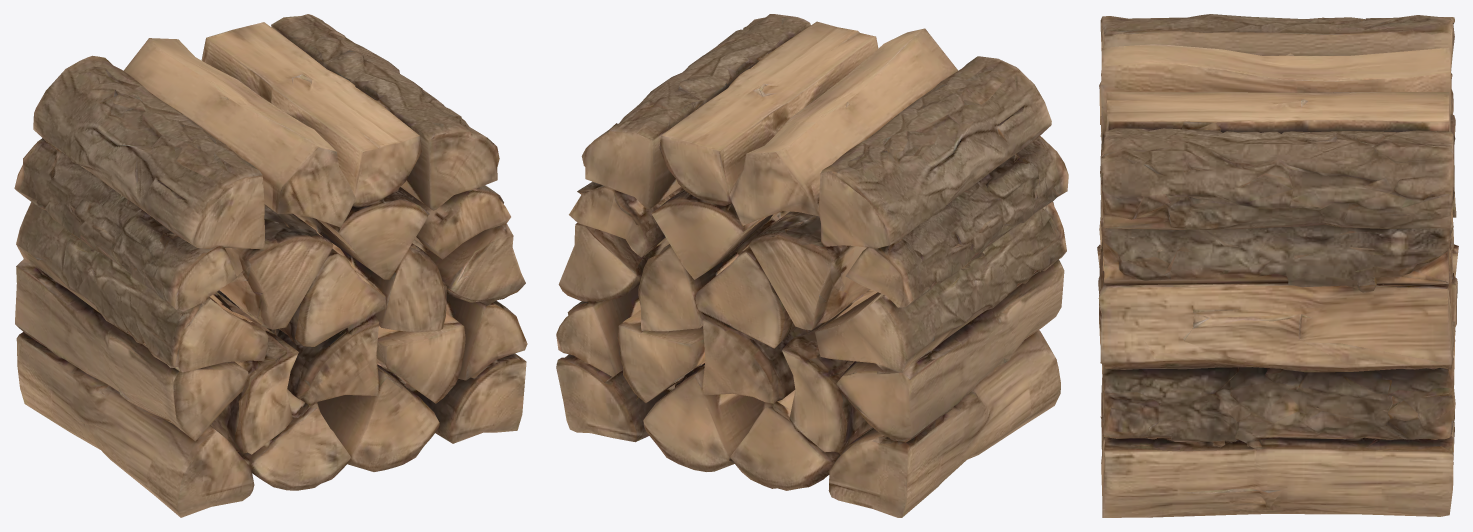
Rendered from prop_woodpile.glb.
3 views of the same model, side by side, from view 1: azimuth 30°, elevation 25°; view 2: azimuth 150°, elevation 25°; view 3: azimuth 270°, elevation 25° (orthographic). The views are drawn at different scales.
Visible parts, largest first — view 1: Mesh_0; view 2: Mesh_0; view 3: Mesh_0.
Part boxes in pixels (box(x1,y1,x2,y2)): Mesh_0: box(14, 14, 527, 517); Mesh_0: box(556, 14, 1068, 517); Mesh_0: box(1097, 14, 1458, 517).
Bounding box in the file's own units: 1.9 × 1.74 × 1.52.
1 material, 1 textured.
